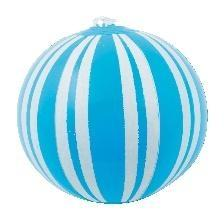Sports-Ball: (15, 21, 210, 204)
